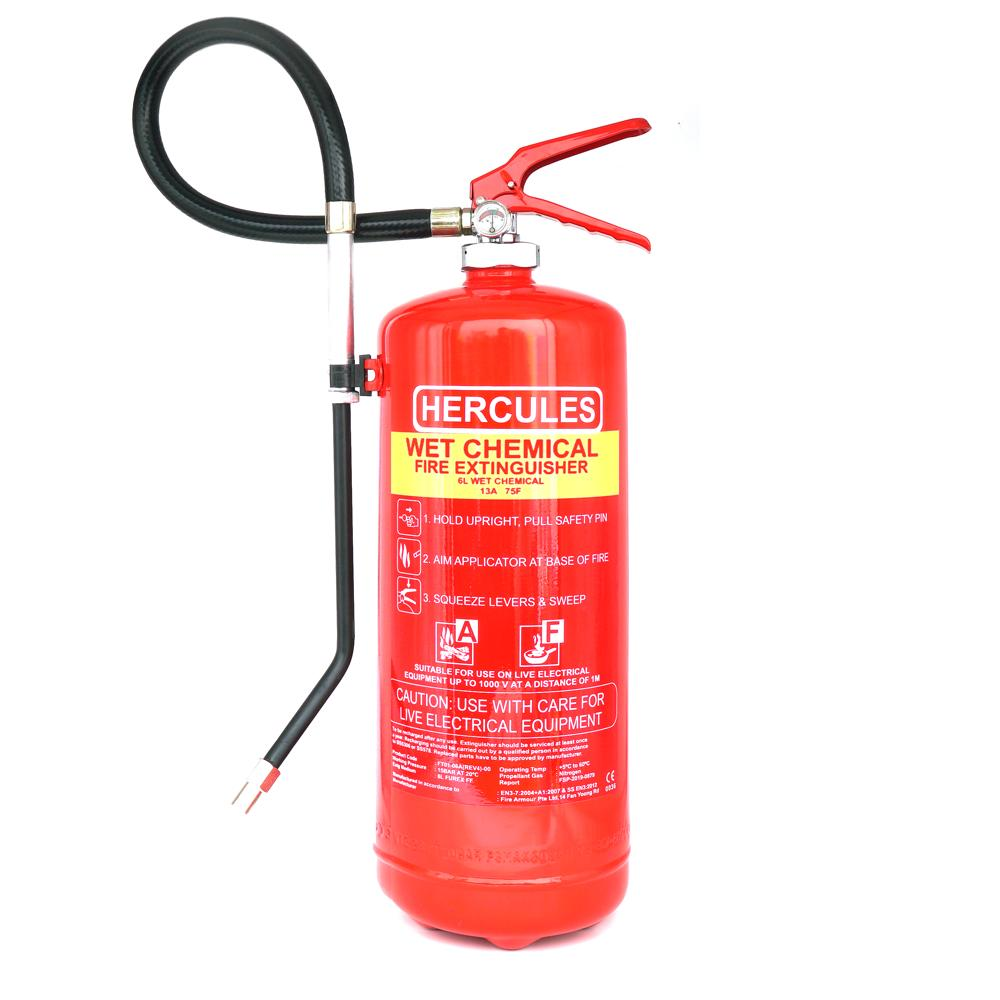Fire Extinguisher: (142, 3, 635, 958)
